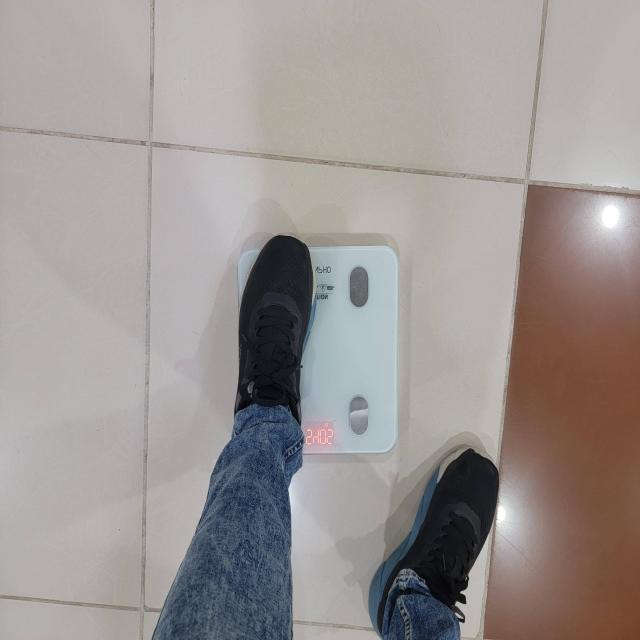ws: (299, 234, 404, 460)
